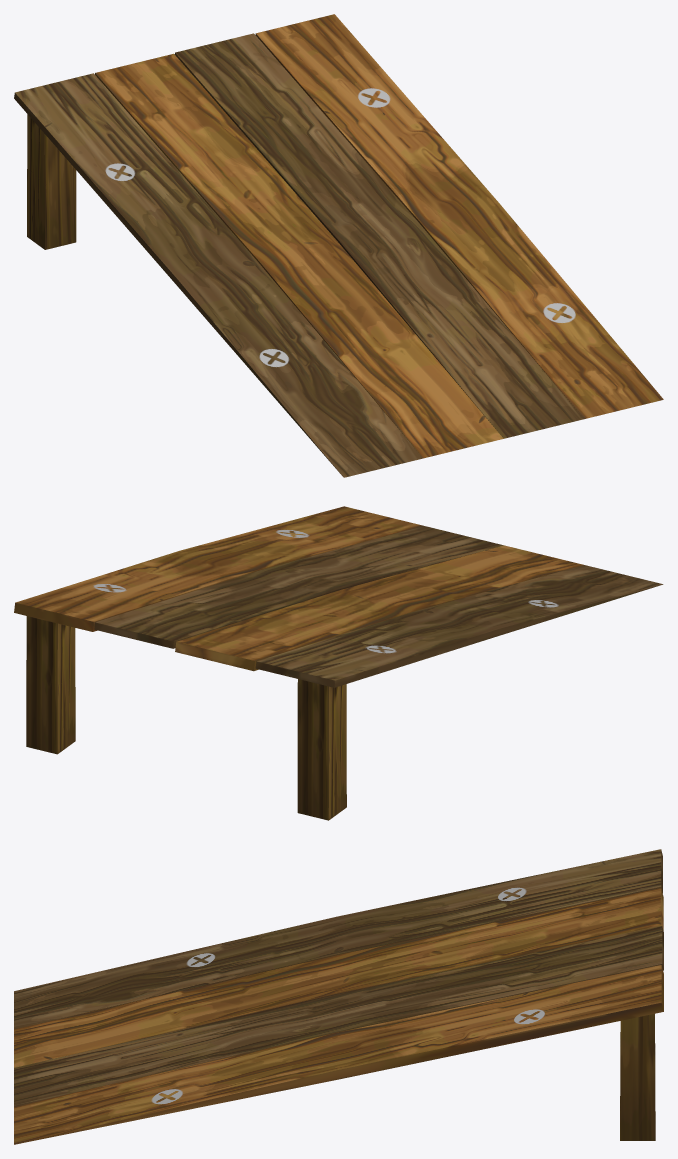
File: RAMP.fbx
3 renders of one model, top to bottom at view 1: azimuth 30°, elevation 25°; view 2: azimuth 150°, elevation 25°; view 3: azimuth 270°, elevation 25°, orthographic.
Parts seen in each view (by area): view 1: ramp; view 2: ramp; view 3: ramp.
Boxes of the visible parts, x1,y1,x2,y2 form: ramp: (14, 14, 663, 477); ramp: (14, 506, 663, 820); ramp: (14, 849, 663, 1144).
Size of the model in its own units: 133 by 57.51 by 238.
1 material, 1 textured.
